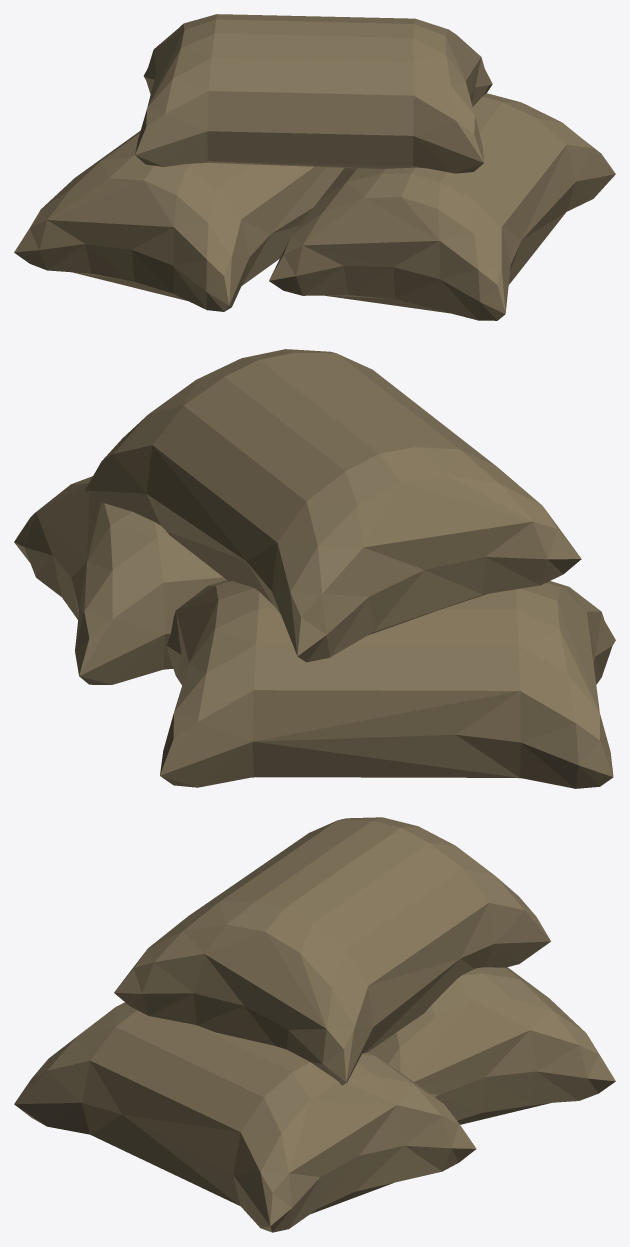
File: bags_lod.glb
3 renders of one model, top to bottom at view 1: azimuth 30°, elevation 25°; view 2: azimuth 150°, elevation 25°; view 3: azimuth 270°, elevation 25°, orthographic. The views are drawn at different scales.
Visible parts, largest first — view 1: Bags; view 2: Bags; view 3: Bags.
Part boxes in pixels (x1,y1,x2,y2): Bags: (14, 14, 615, 320); Bags: (14, 349, 615, 788); Bags: (14, 817, 615, 1232).
Size of the model in its own units: 0.2697 by 0.1055 by 0.2392.
